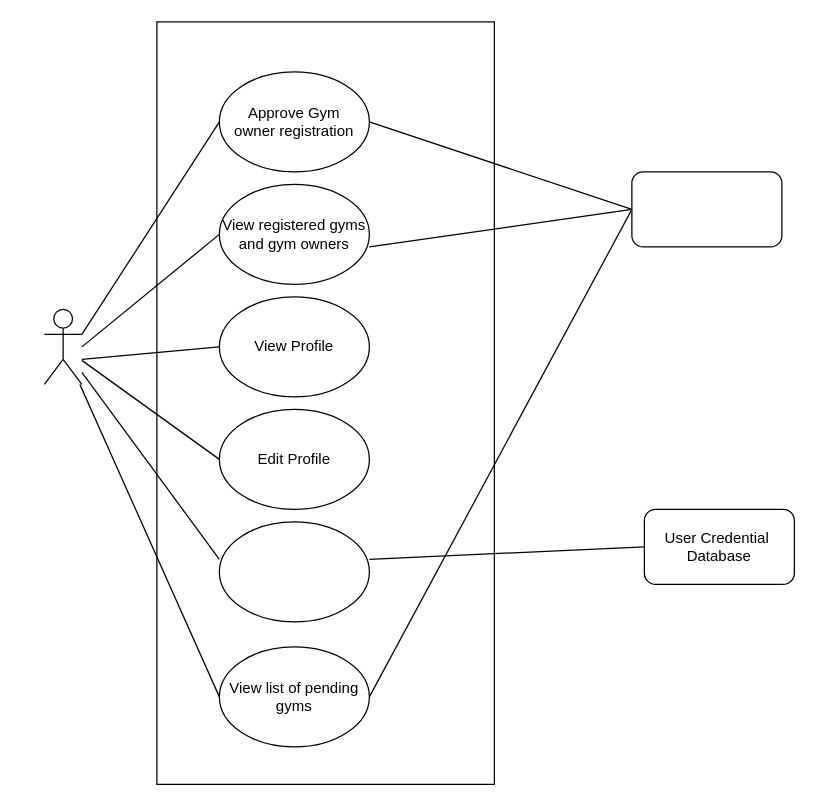
This 816x806 diagram has some shape labels left out. Each missing label, with the centre of its shape:
"Flipfit Admin" belongs at point (62, 346).
"Gym Database" belongs at point (706, 209).
"View List of Registered customer" belongs at point (293, 571).
